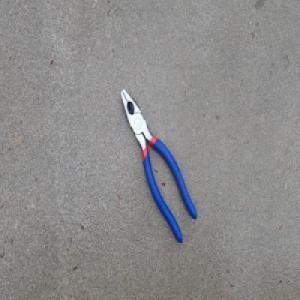Pliers: (120, 87, 197, 243)
